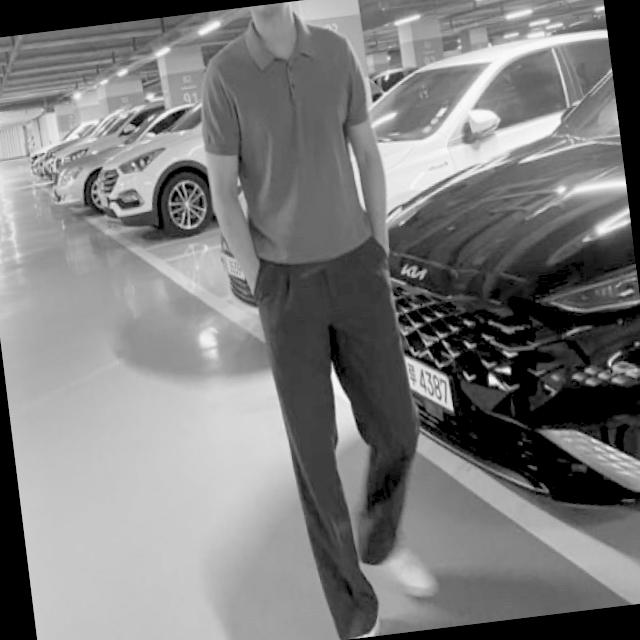shortsleeve: (184, 0, 388, 270)
slacks: (248, 233, 440, 640)
